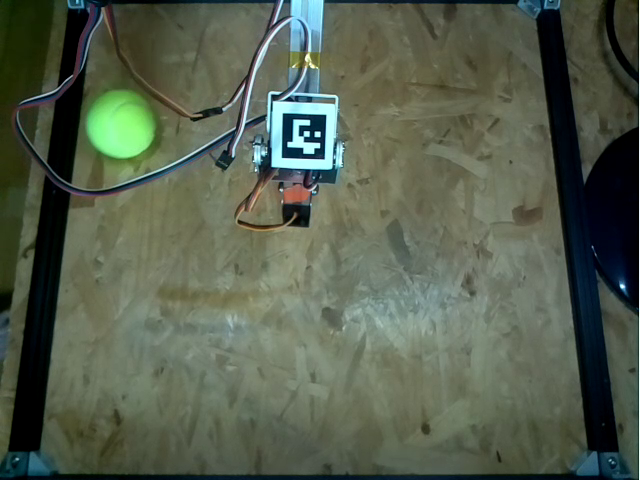tennis_ball: (85, 91, 158, 159)
